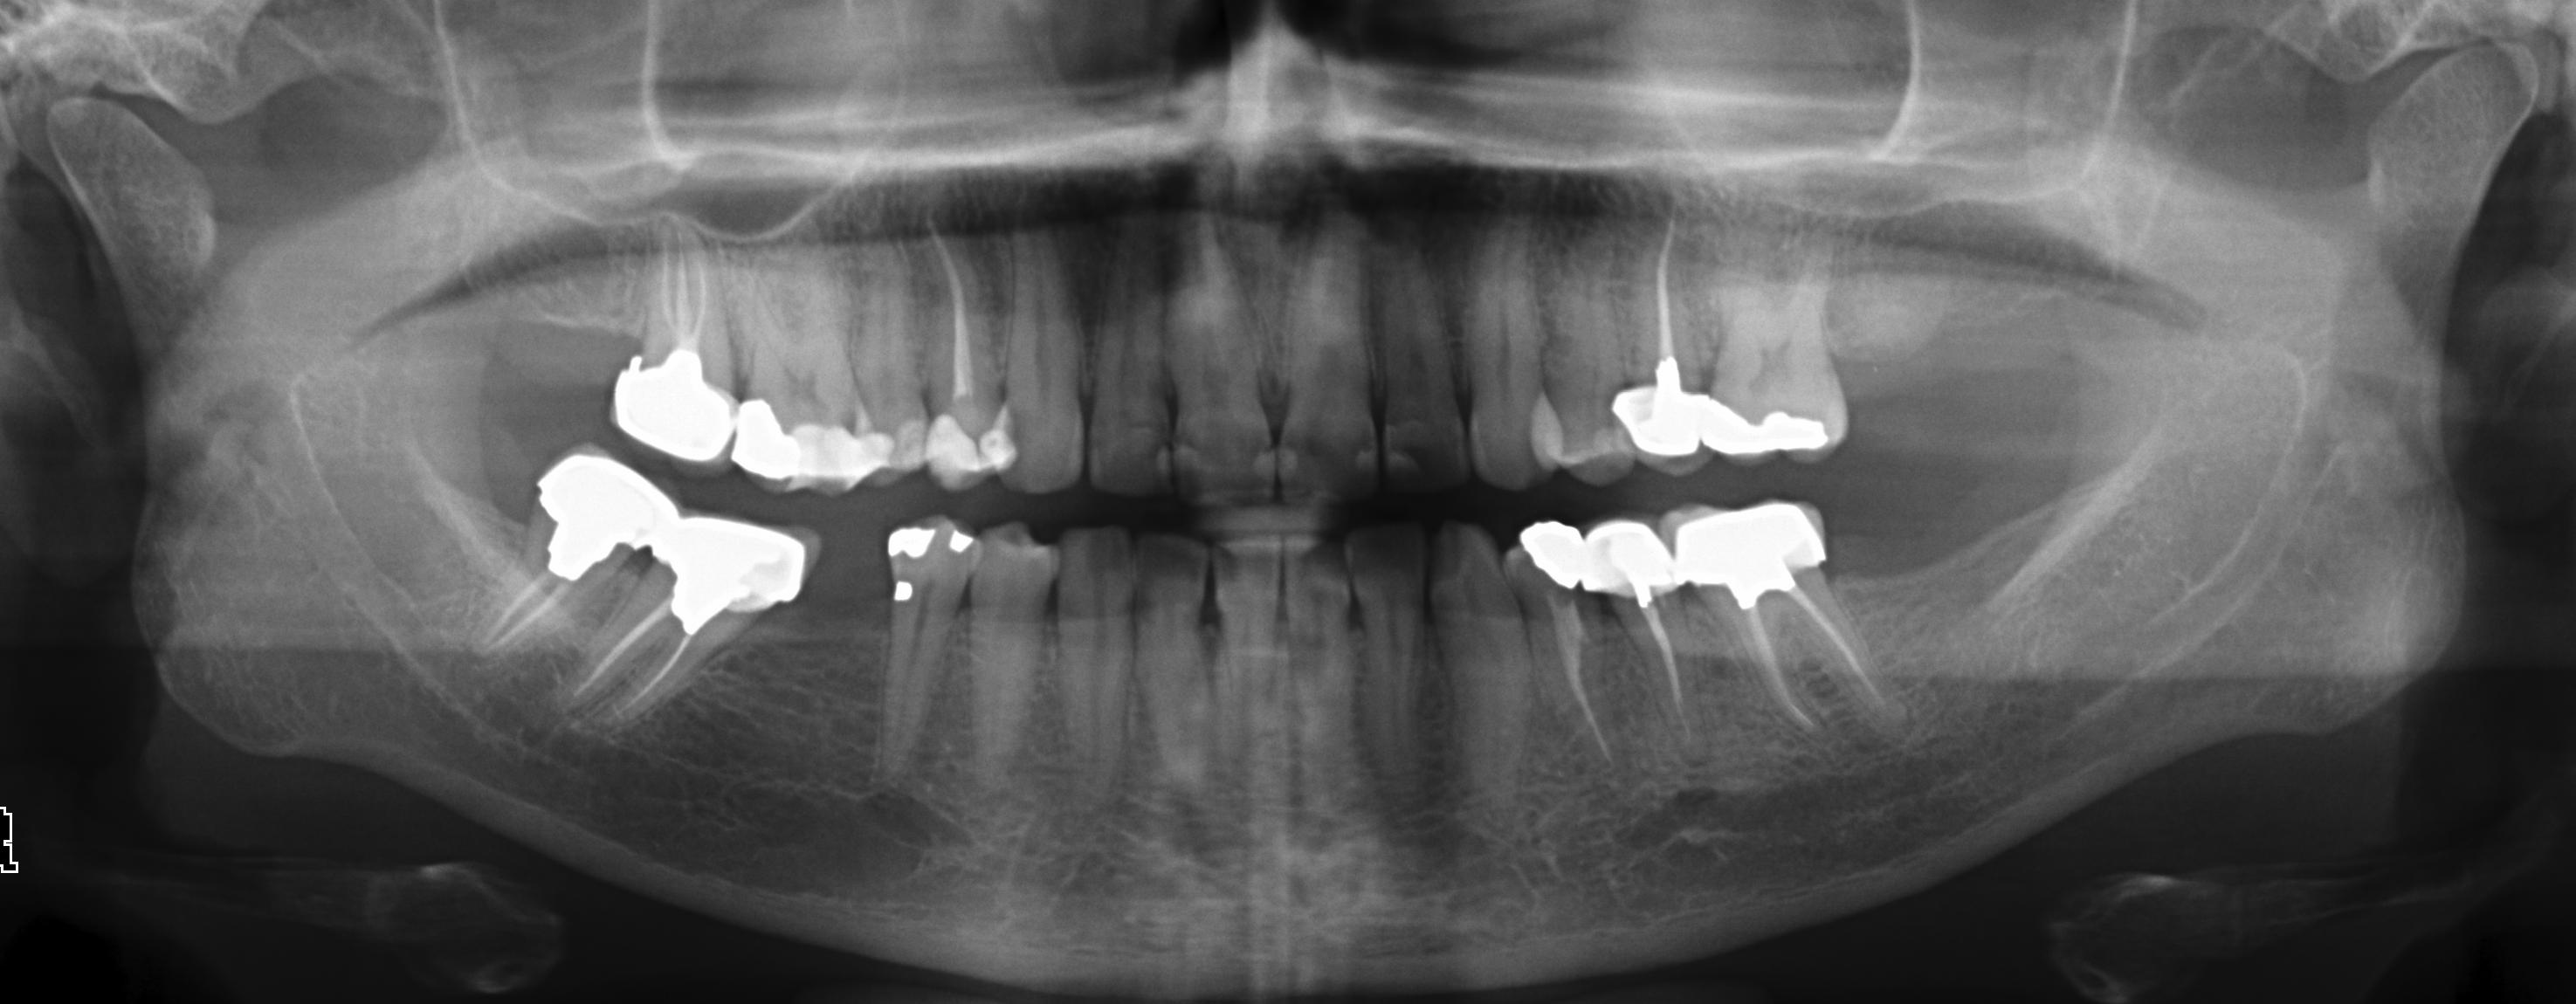Çürük: (532, 447, 670, 585), (653, 519, 811, 634), (1666, 501, 1822, 609), (739, 386, 871, 508), (609, 347, 736, 459), (1705, 384, 1852, 470), (1608, 382, 1715, 473), (934, 390, 1011, 485), (1593, 518, 1671, 605), (1508, 528, 1595, 591), (882, 407, 926, 475), (880, 526, 947, 559), (884, 576, 920, 609), (937, 530, 980, 554)
Çürük Bölgesi: (809, 398, 871, 447), (1086, 530, 1136, 587), (1519, 435, 1556, 490), (1545, 581, 1591, 621)
